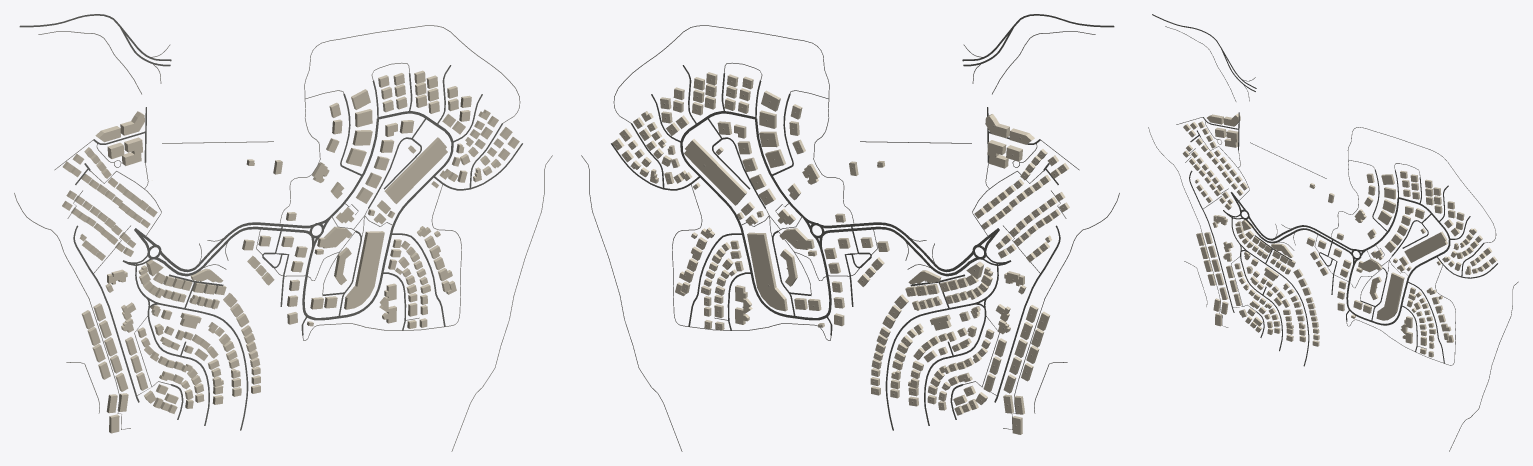
File: historic-palestine-10_24_3517_3186.glb
3 renders of one model, left to right at view 1: azimuth 30°, elevation 25°; view 2: azimuth 150°, elevation 25°; view 3: azimuth 330°, elevation 25°, orthographic. The views are drawn at different scales.
Visible parts, largest first — view 1: Building_.077, Building_.034, Road ערוגות, Road .019; view 2: Building_.077, Building_.034, Road ערוגות, Road .019; view 3: Building_.077, Building_.034, Road ערוגות.
Part boxes in pixels (x1=…): Building_.077: x1=344, y1=231, x2=384, y2=309; Building_.034: x1=384, y1=137, x2=447, y2=203; Road ערוגות: x1=306, y1=142, x2=453, y2=320; Road .019: x1=279, y1=25, x2=520, y2=223; Building_.077: x1=747, y1=232, x2=787, y2=311; Building_.034: x1=684, y1=139, x2=747, y2=205; Road ערוגות: x1=680, y1=142, x2=826, y2=320; Road .019: x1=613, y1=25, x2=854, y2=223; Building_.077: x1=1376, y1=272, x2=1404, y2=320; Building_.034: x1=1404, y1=231, x2=1447, y2=262; Road ערוגות: x1=1349, y1=239, x2=1450, y2=325.
Bounding box in the file's own units: 1106 × 1043 × 15.59.
